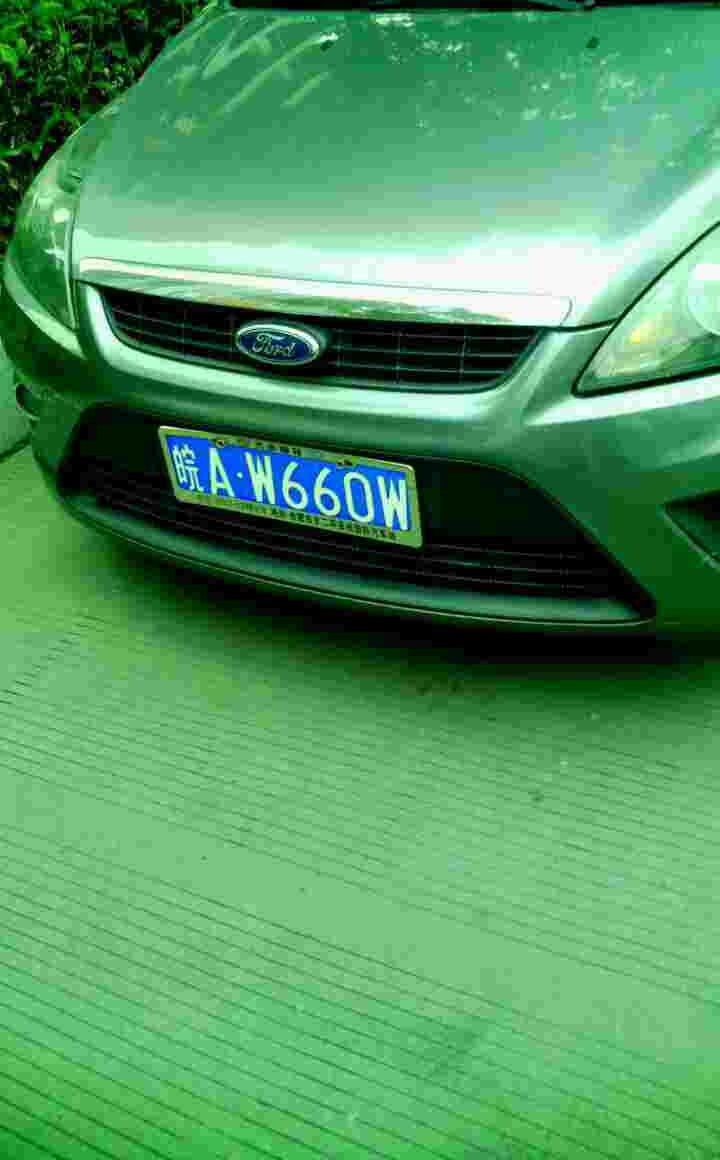license_plate: (153, 426, 410, 541)
